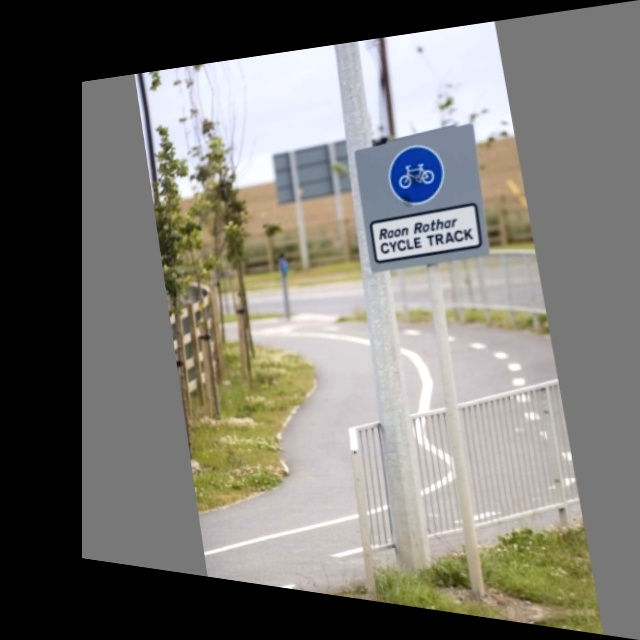Compulsory_Cycle_Track: (378, 133, 454, 216)
